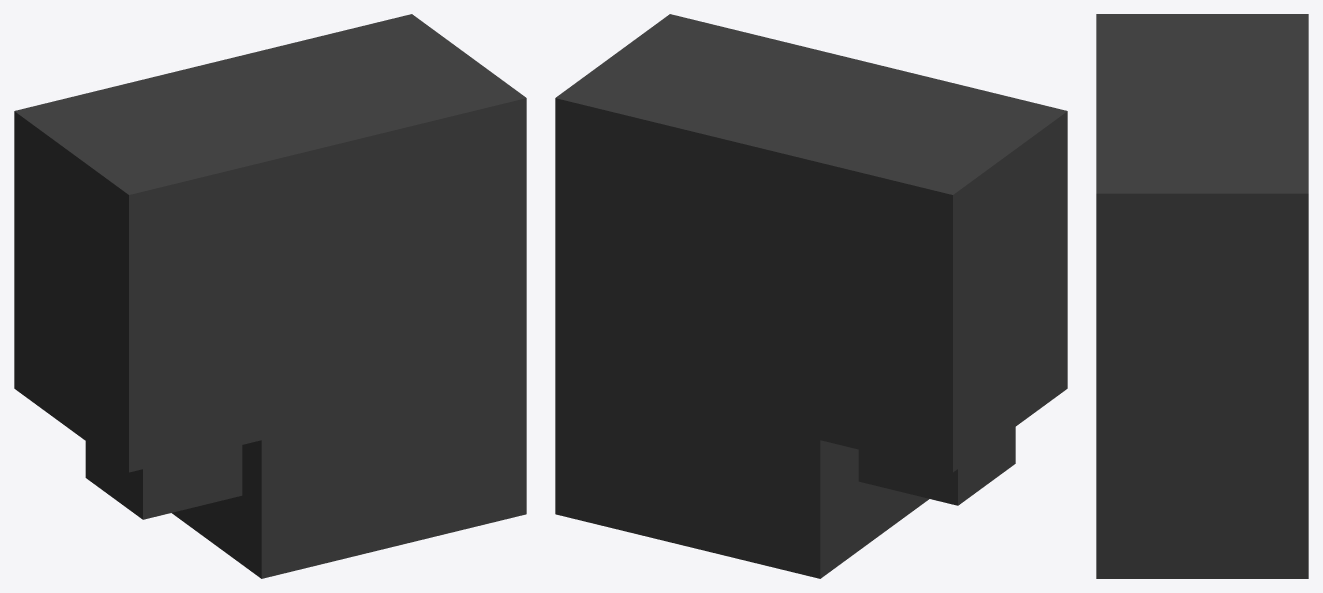
Rendered from cliff inner corner 1.obj.
3 views of the same model, side by side, from view 1: azimuth 30°, elevation 25°; view 2: azimuth 150°, elevation 25°; view 3: azimuth 270°, elevation 25° (orthographic). The views are drawn at different scales.
Bounding box in the file's own units: 12 × 12 × 6.
Materials: 1 (1 with a texture image).
